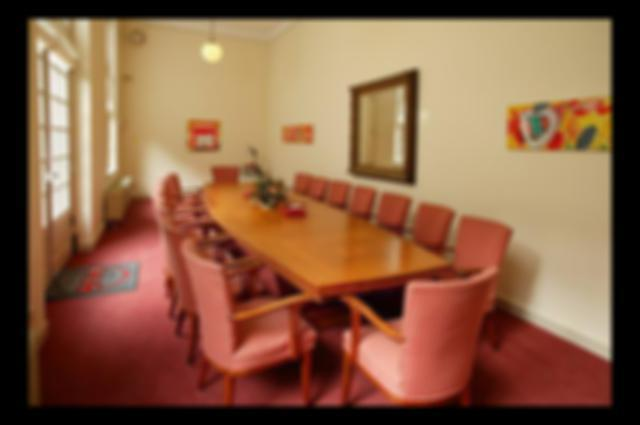Otro Obstaculo: (103, 178, 132, 220)
Puerta: (34, 34, 75, 274)
